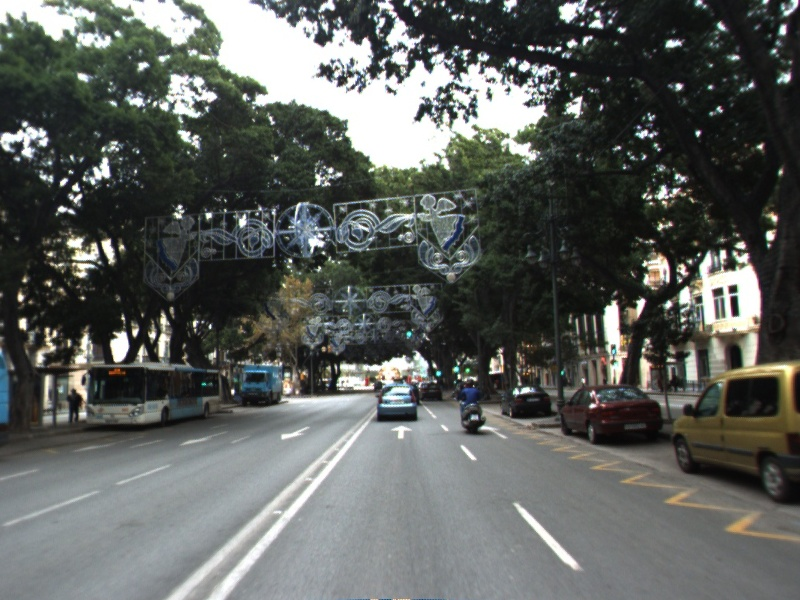STRAIGHT: (478, 423, 510, 440), (389, 423, 414, 441)
